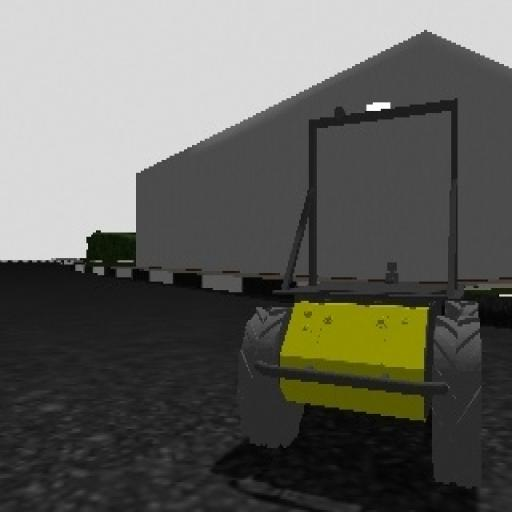huskya200: (231, 97, 488, 481)
